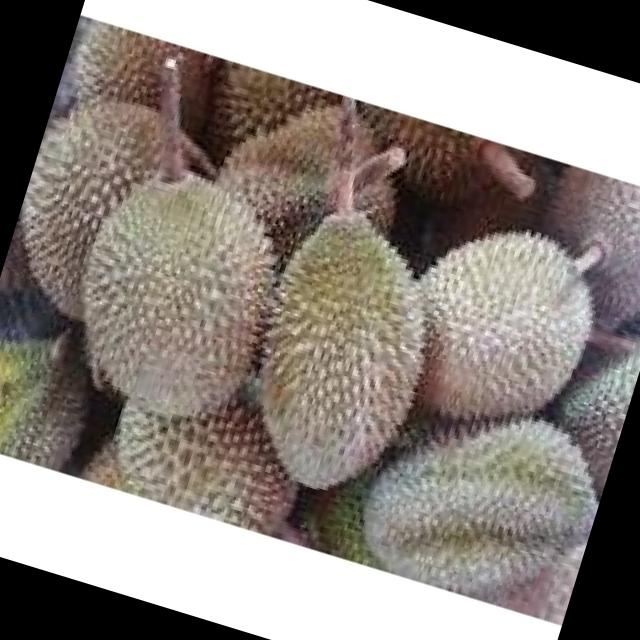fruit: (0, 112, 331, 451), (183, 173, 492, 526), (354, 183, 632, 463), (46, 342, 325, 544), (0, 311, 117, 481)
